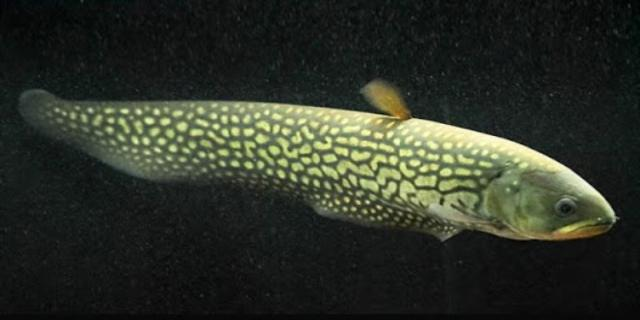Mulut: (542, 202, 624, 244)
Sirip Dada: (422, 198, 502, 234)
Sirip Punggung: (356, 73, 419, 123)
